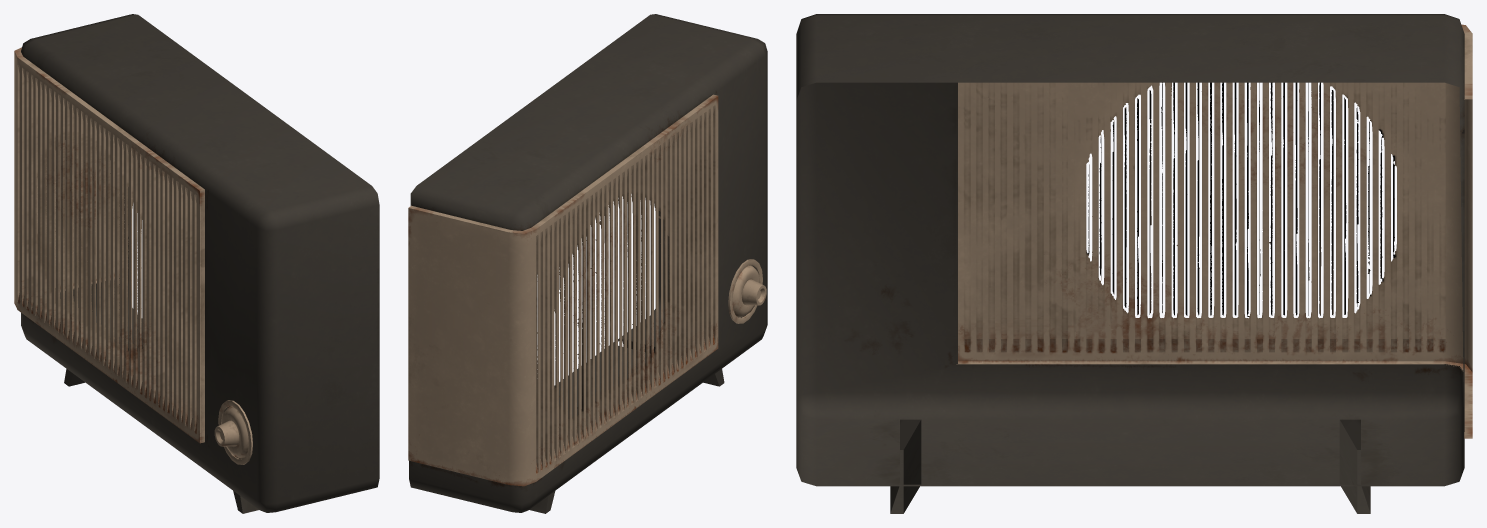
File: Radio01.FBX
3 renders of one model, left to right at view 1: azimuth 30°, elevation 25°; view 2: azimuth 150°, elevation 25°; view 3: azimuth 270°, elevation 25°, orthographic. The views are drawn at different scales.
Parts seen in each view (by area): view 1: Radio01_LOD0; view 2: Radio01_LOD0; view 3: Radio01_LOD0.
Boxes of the visible parts, <box> form: Radio01_LOD0: <box>14,14,379,513</box>; Radio01_LOD0: <box>408,14,767,513</box>; Radio01_LOD0: <box>796,14,1472,513</box>.
Bounding box in the file's own units: 9.17 × 30.36 × 21.5.
